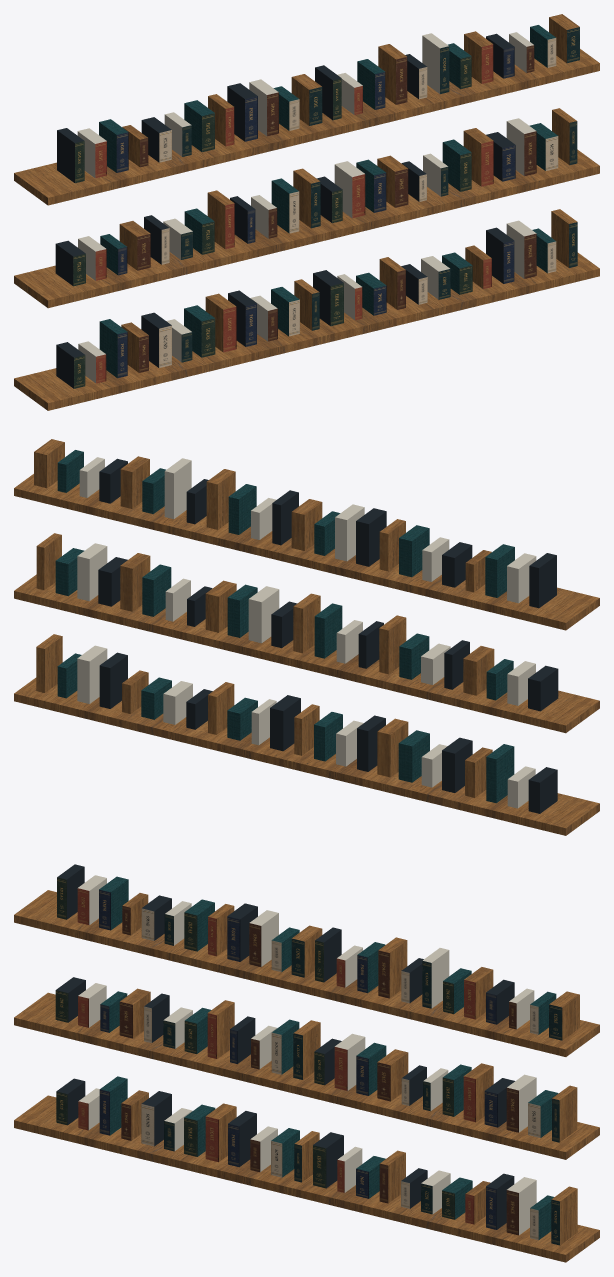
The model's file is commons-floating-bookshelf.glb.
3 views of the same model, one above another, from view 1: azimuth 30°, elevation 25°; view 2: azimuth 150°, elevation 25°; view 3: azimuth 330°, elevation 25° (orthographic).
Parts seen in each view (by area): view 1: FURN_ArchiveShelf.005, FURN_ArchiveShelf.004, FURN_ArchiveShelf.003, FURN_Book.128, FURN_Book.106, FURN_Book.135, FURN_Book.126, FURN_Book.093, FURN_Book.100, FURN_Book.083, FURN_Book.088, FURN_Book.098 (+63 smaller); view 2: FURN_ArchiveShelf.005, FURN_ArchiveShelf.004, FURN_ArchiveShelf.003, FURN_Book.128, FURN_Book.106, FURN_Book.135, FURN_Book.126, FURN_Book.093, FURN_Book.100, FURN_Book.083, FURN_Book.088, FURN_Book.098 (+63 smaller); view 3: FURN_ArchiveShelf.004, FURN_ArchiveShelf.005, FURN_ArchiveShelf.003, FURN_Book.128, FURN_Book.074, FURN_Book.083, FURN_Book.072, FURN_Book.100, FURN_Book.098, FURN_Book.088, FURN_Book.126, FURN_Book.134 (+63 smaller).
Part boxes in pixels (x1,y1,x2,y2): FURN_ArchiveShelf.005: [14, 49, 599, 205]; FURN_ArchiveShelf.004: [14, 149, 599, 308]; FURN_ArchiveShelf.003: [14, 252, 599, 410]; FURN_Book.128: [378, 44, 407, 104]; FURN_Book.106: [334, 161, 365, 218]; FURN_Book.135: [227, 83, 257, 141]; FURN_Book.126: [422, 33, 449, 94]; FURN_Book.093: [99, 319, 127, 378]; FURN_Book.100: [463, 128, 493, 186]; FURN_Book.083: [313, 270, 343, 326]; FURN_Book.088: [205, 293, 236, 352]; FURN_Book.098: [506, 118, 536, 176]; FURN_ArchiveShelf.005: [14, 474, 599, 630]; FURN_ArchiveShelf.004: [14, 574, 599, 733]; FURN_ArchiveShelf.003: [14, 677, 599, 835]; FURN_Book.128: [206, 469, 235, 529]; FURN_Book.106: [248, 586, 279, 643]; FURN_Book.135: [356, 508, 386, 566]; FURN_Book.126: [164, 458, 191, 519]; FURN_Book.093: [486, 744, 514, 803]; FURN_Book.100: [120, 553, 150, 611]; FURN_Book.083: [270, 695, 300, 751]; FURN_Book.088: [377, 718, 408, 777]; FURN_Book.098: [77, 543, 107, 601]; FURN_ArchiveShelf.004: [14, 992, 599, 1159]; FURN_ArchiveShelf.005: [14, 890, 599, 1056]; FURN_ArchiveShelf.003: [14, 1095, 599, 1262]; FURN_Book.128: [378, 937, 407, 998]; FURN_Book.074: [506, 1177, 536, 1235]; FURN_Book.083: [313, 1132, 343, 1188]; FURN_Book.072: [551, 1186, 577, 1245]; FURN_Book.100: [463, 1063, 493, 1122]; FURN_Book.098: [506, 1074, 536, 1132]; FURN_Book.088: [205, 1103, 236, 1162]; FURN_Book.126: [422, 948, 449, 1008]; FURN_Book.134: [249, 910, 278, 966].
Size of the model in its own units: 4.5 by 2.02 by 0.48.
Materials: 5 (3 with a texture image).
